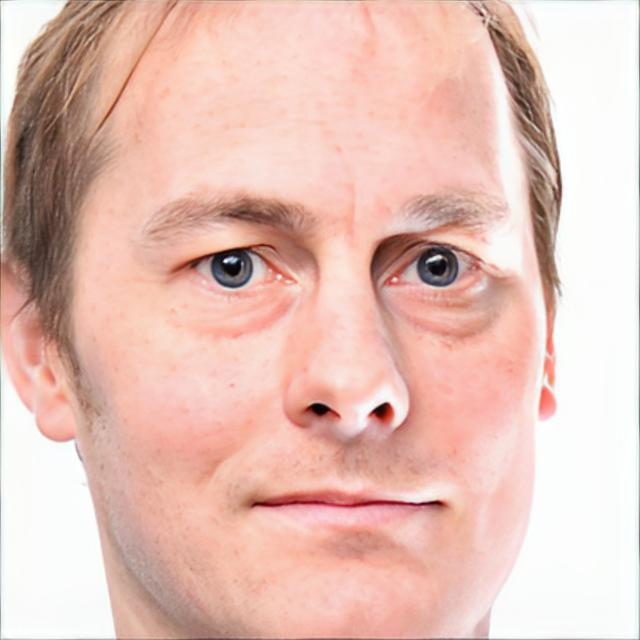content: (69, 0, 549, 639)
